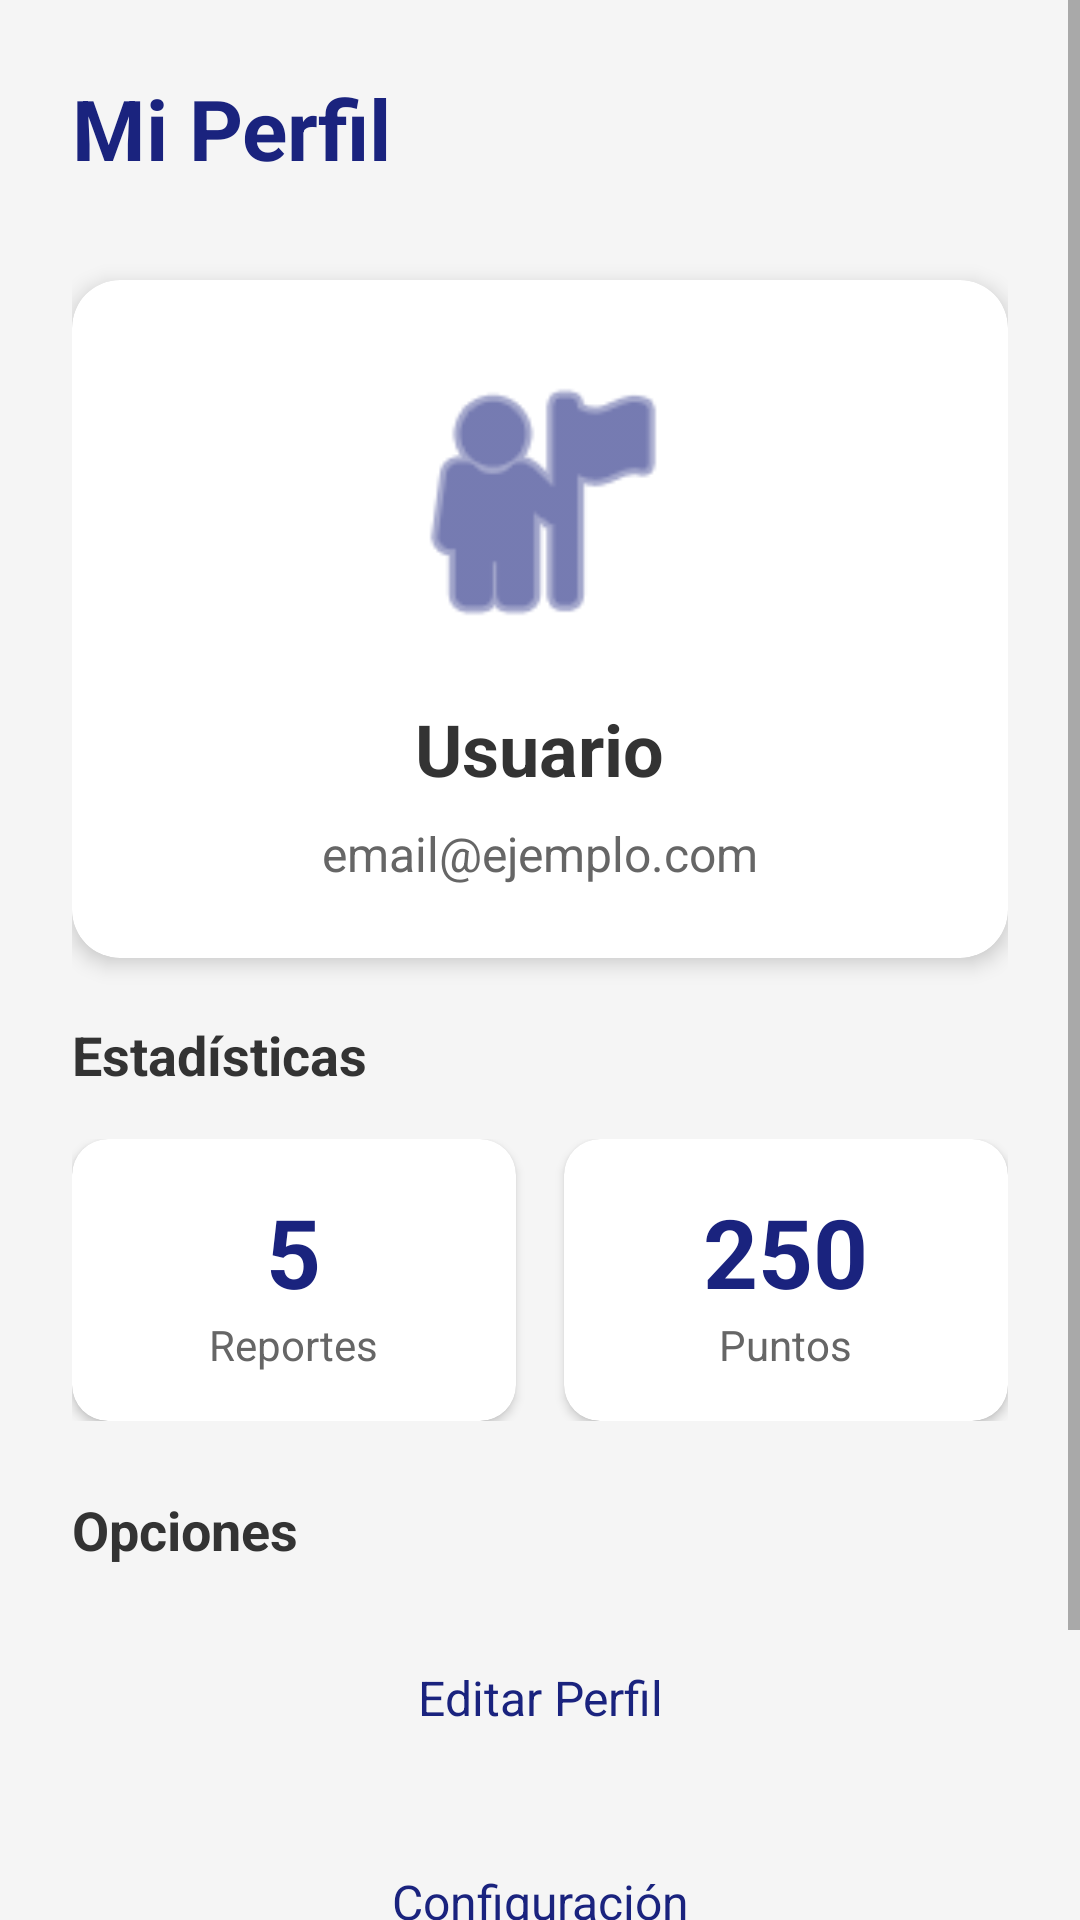

Point at icon controls on the screen. Image size 1080px×1920px, points as point (x, y).
myplaces: point (543, 502)
